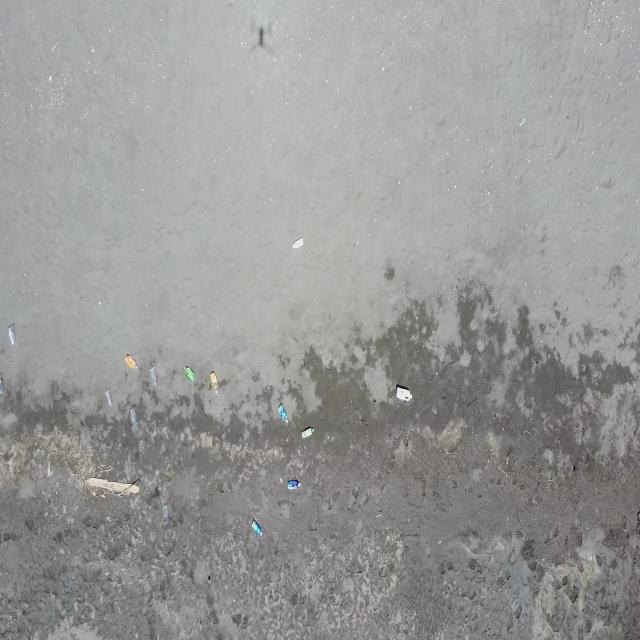plastic-bottle: (395, 383, 412, 403), (124, 353, 138, 372), (250, 518, 262, 538), (290, 236, 305, 252), (183, 364, 196, 382), (210, 370, 219, 394), (301, 424, 315, 439), (279, 404, 289, 424), (286, 478, 300, 492)
takeaway-cup: (6, 322, 17, 346), (130, 406, 139, 428), (149, 365, 158, 387), (164, 504, 172, 526), (0, 370, 6, 399), (105, 387, 114, 406)
